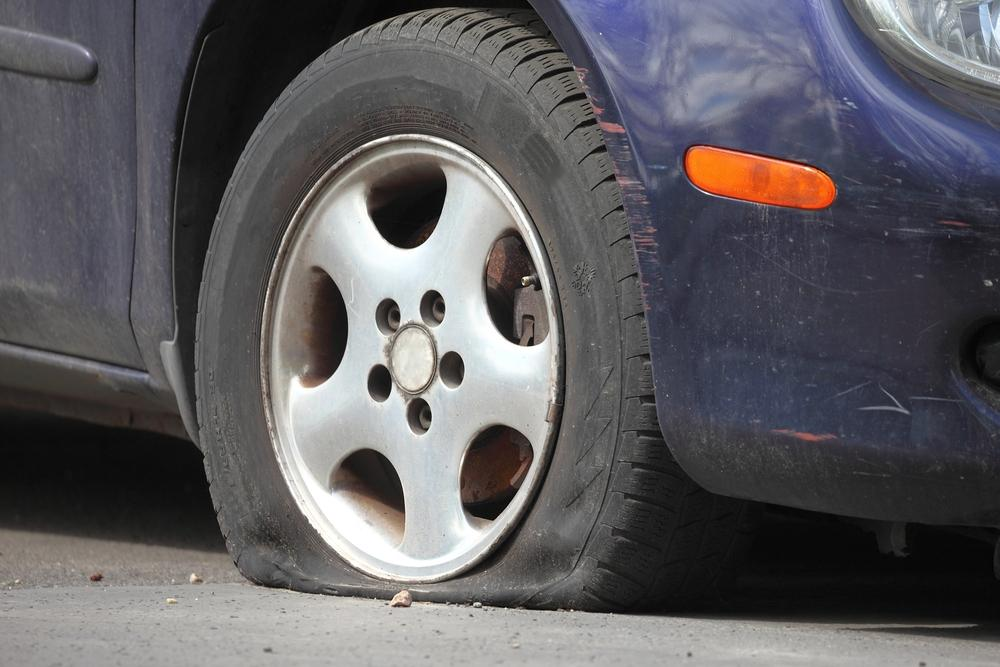scratch: (576, 69, 668, 291)
tire flat: (194, 0, 678, 611)
